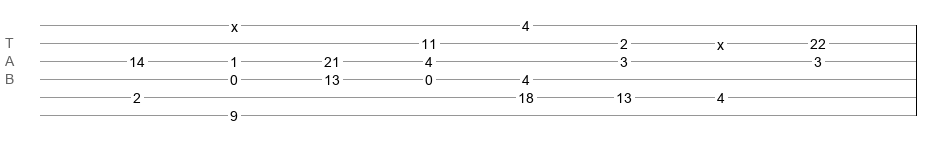0: (230, 72, 238, 82), (425, 72, 433, 82)
1: (230, 54, 238, 64)
11: (421, 36, 437, 46)
13: (324, 72, 340, 82), (616, 90, 632, 100)
14: (129, 54, 145, 64)
18: (518, 90, 534, 100)
2: (133, 90, 141, 100), (620, 36, 628, 46)
21: (324, 54, 340, 64)
22: (810, 36, 826, 46)
3: (620, 54, 628, 64), (814, 54, 822, 64)
4: (425, 54, 433, 64), (522, 18, 530, 28), (522, 72, 530, 82), (717, 90, 725, 100)
9: (230, 108, 238, 118)
x: (231, 19, 238, 27), (717, 37, 724, 45)
